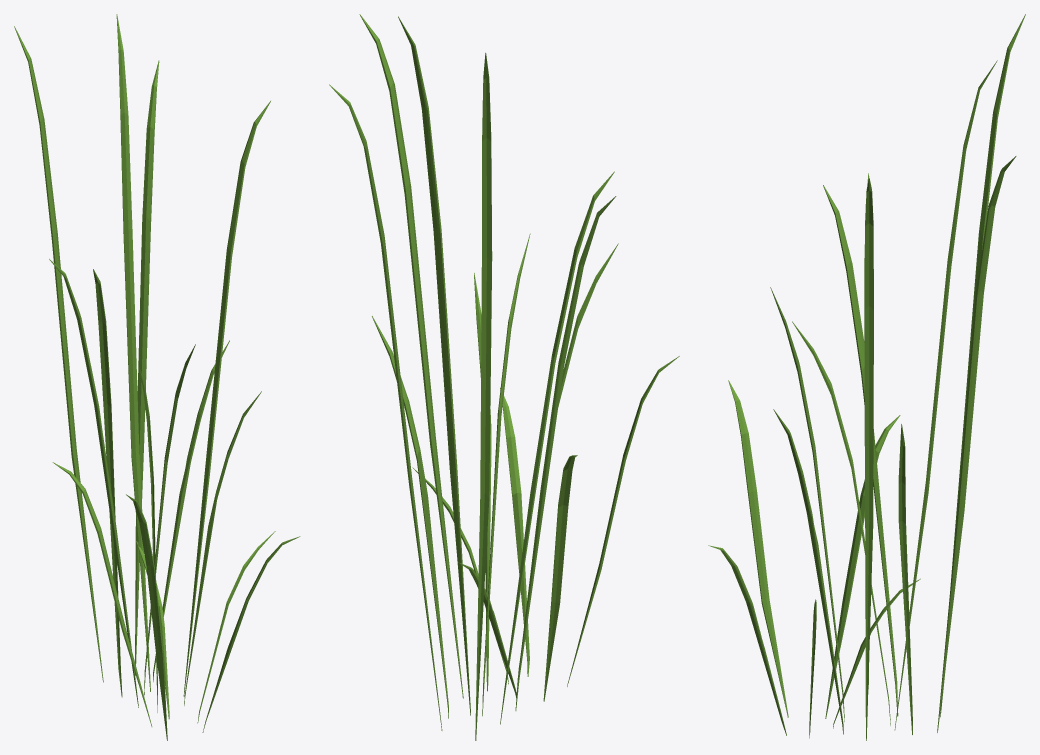
The model's file is Grass5.fbx.
3 views of the same model, side by side, from view 1: azimuth 30°, elevation 25°; view 2: azimuth 150°, elevation 25°; view 3: azimuth 270°, elevation 25° (orthographic). The views are drawn at different scales.
Parts seen in each view (by area): view 1: Grass5; view 2: Grass5; view 3: Grass5.
Part boxes in pixels (box(x1,y1,x2,y2)): Grass5: box(14, 14, 300, 740); Grass5: box(329, 14, 679, 740); Grass5: box(708, 14, 1025, 740).
Size of the model in its own units: 105 by 291 by 123.
